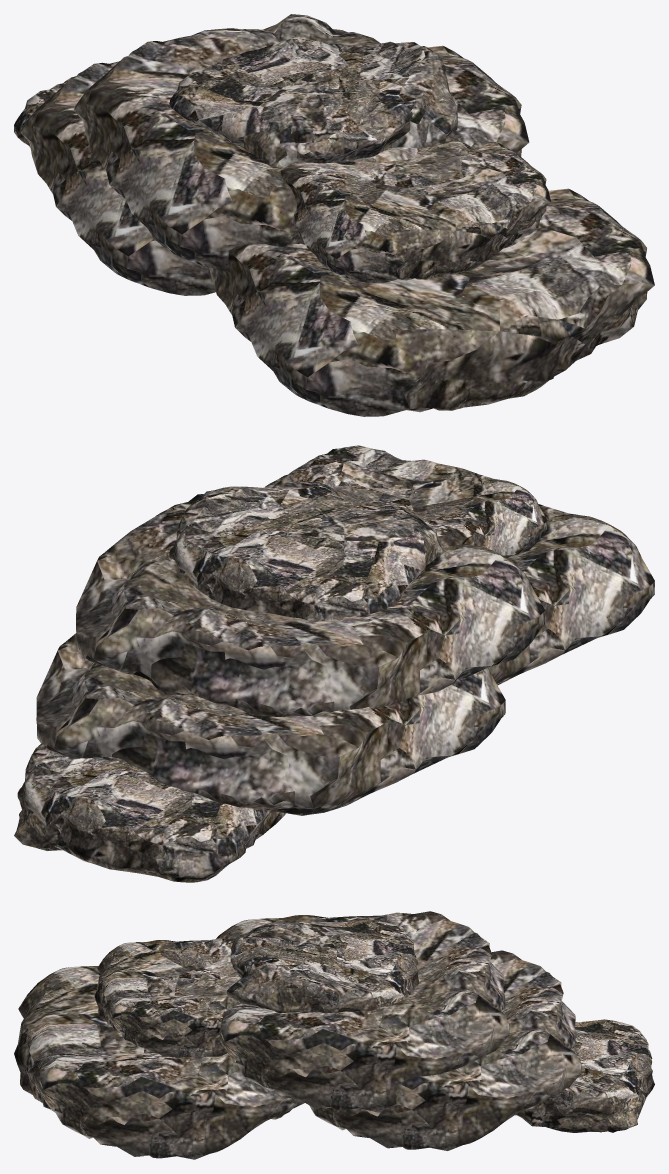
The model's file is Piedra.obj.
The picture shows the model from 3 angles, top to bottom: view 1: azimuth 30°, elevation 25°; view 2: azimuth 150°, elevation 25°; view 3: azimuth 270°, elevation 25°; orthographic projection. The views are drawn at different scales.
Parts seen in each view (by area): view 1: Rock07_Base:Rock08; view 2: Rock07_Base:Rock08; view 3: Rock07_Base:Rock08.
Part boxes in pixels (left/top/right/bottom): Rock07_Base:Rock08: left=14, top=14, right=654, bottom=416; Rock07_Base:Rock08: left=14, top=445, right=654, bottom=882; Rock07_Base:Rock08: left=14, top=911, right=654, bottom=1159.
Bounding box in the file's own units: 4.43 × 2.18 × 8.2.
1 material, 1 textured.
